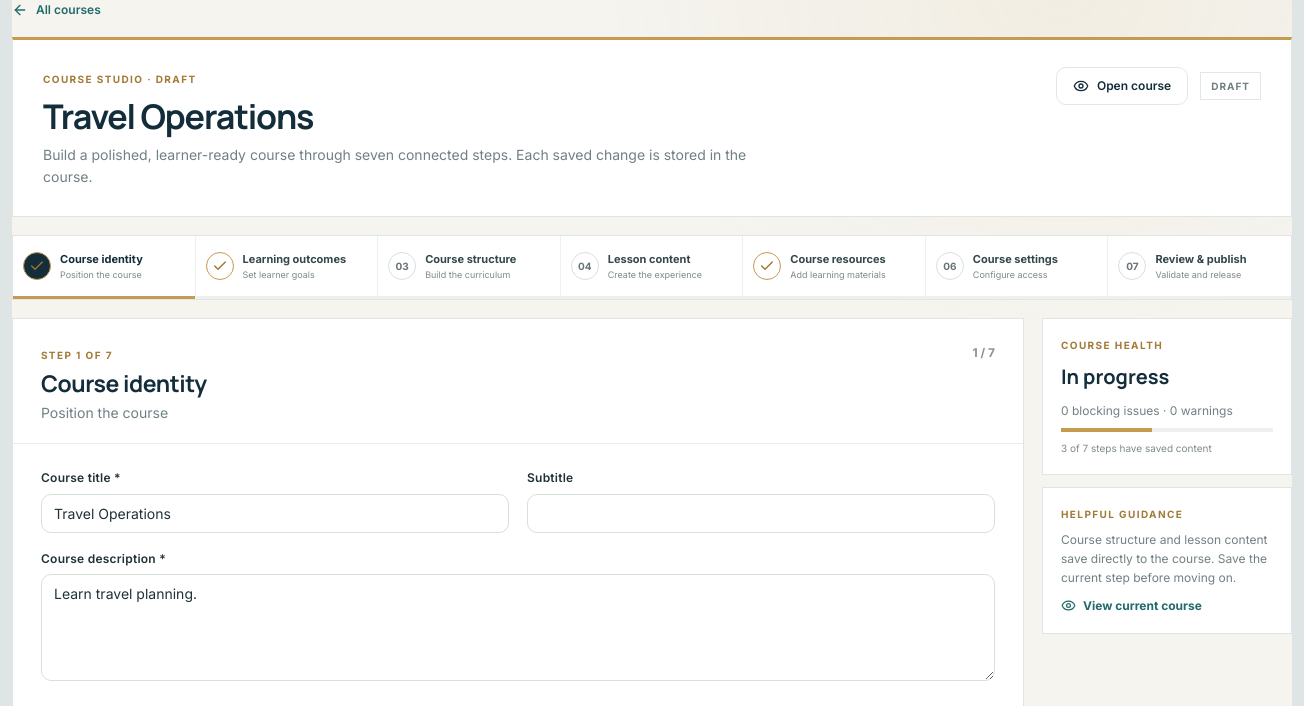
CourseBuilderPage › preserves the resource name draft when the server rejects an update
The image size is (1304, 706).
Expected: the heading "Travel Operations" is shown, x1=43 y1=93 x2=313 y2=139
Click the button "Course resources Add learning materials" at (835, 267), box x1=743 y1=236 x2=926 y2=299
(page scrolled)
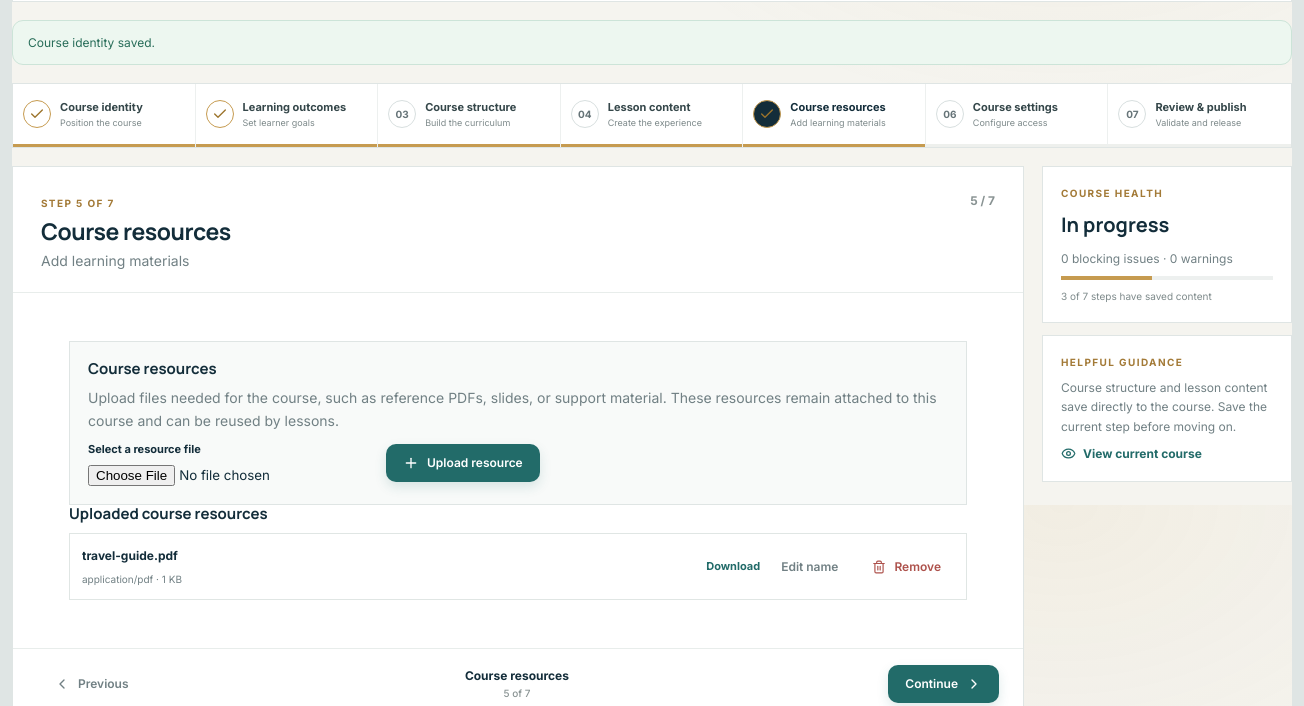
Click the button "Edit name" at (810, 566), box x1=768 y1=548 x2=851 y2=586
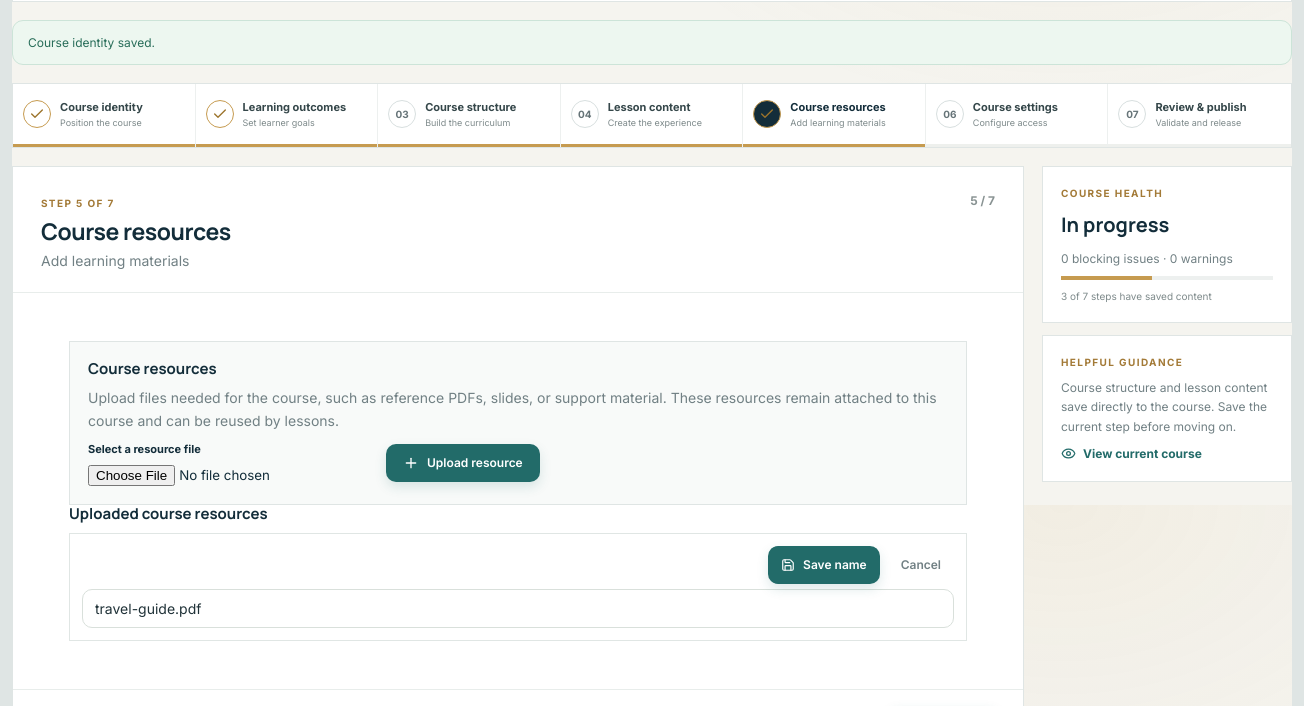
Replace the text in the field named "Resource name for travel-guide.pdf" with "Draft name.pdf" at (518, 609), box x1=82 y1=590 x2=954 y2=628
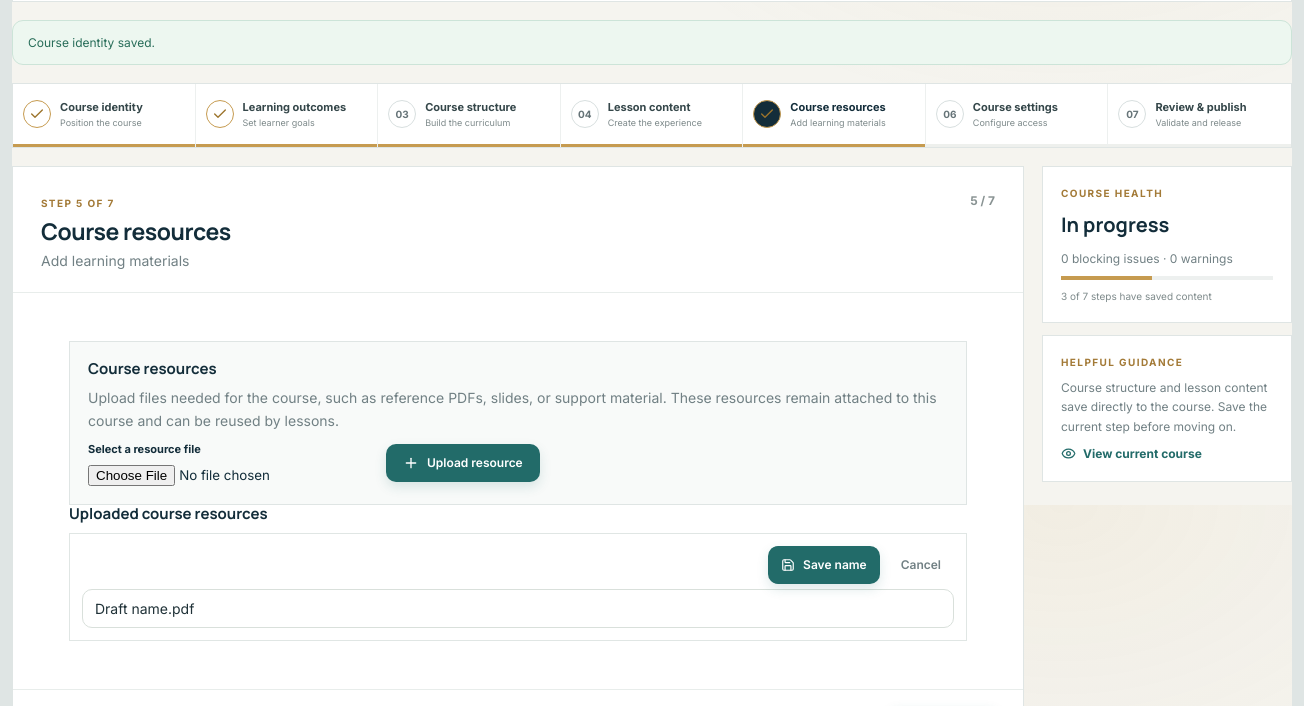
Click the button "Save name" at (824, 566), box x1=768 y1=546 x2=880 y2=584
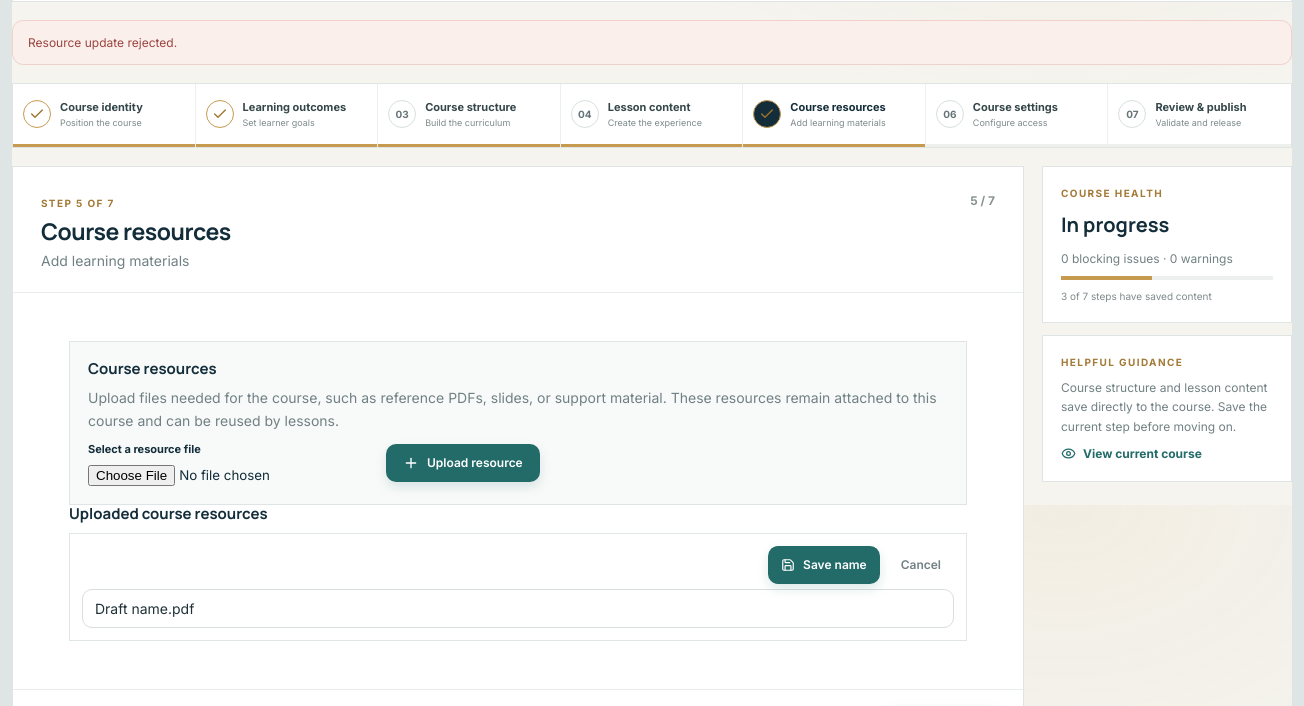
Result: the message reads "Resource update rejected." at x1=28 y1=35 x2=177 y2=50
